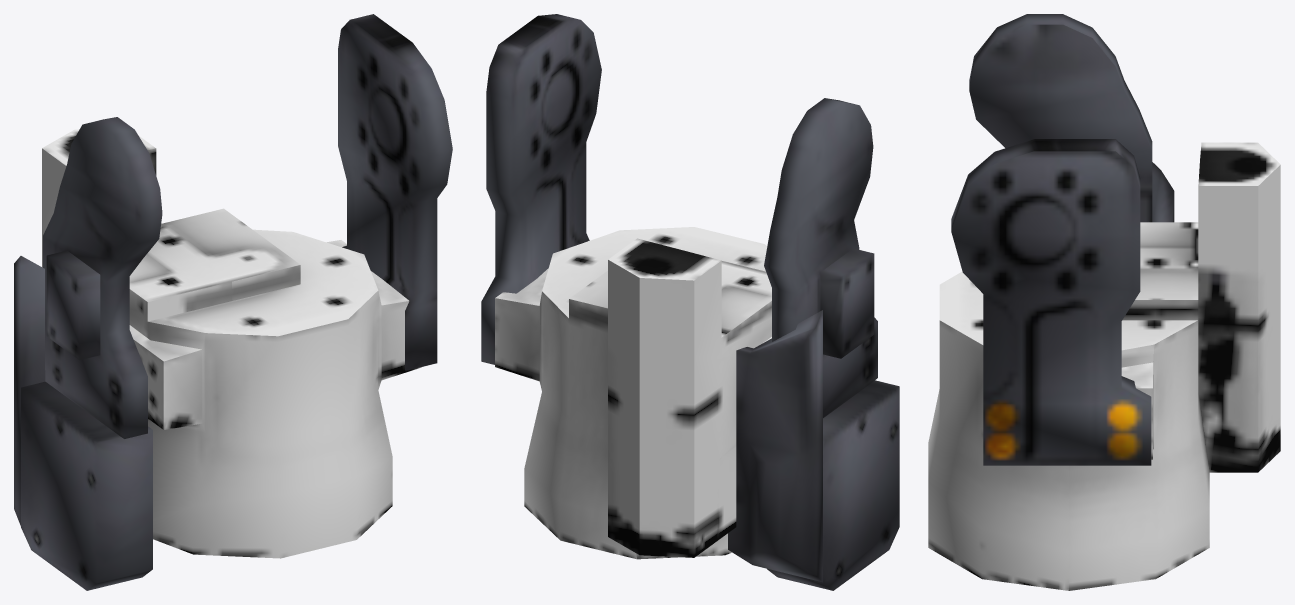
File: r_larm.obj
3 views of the same model, side by side, from view 1: azimuth 30°, elevation 25°; view 2: azimuth 150°, elevation 25°; view 3: azimuth 270°, elevation 25° (orthographic). The views are drawn at different scales.
Parts seen in each view (by area): view 1: r_larm; view 2: r_larm; view 3: r_larm.
Part boxes in pixels (x1=…): r_larm: x1=14, y1=14, x2=452, y2=590; r_larm: x1=481, y1=14, x2=899, y2=590; r_larm: x1=928, y1=14, x2=1280, y2=590.
Bounding box in the file's own units: 0.1433 × 0.1854 × 0.1246.
